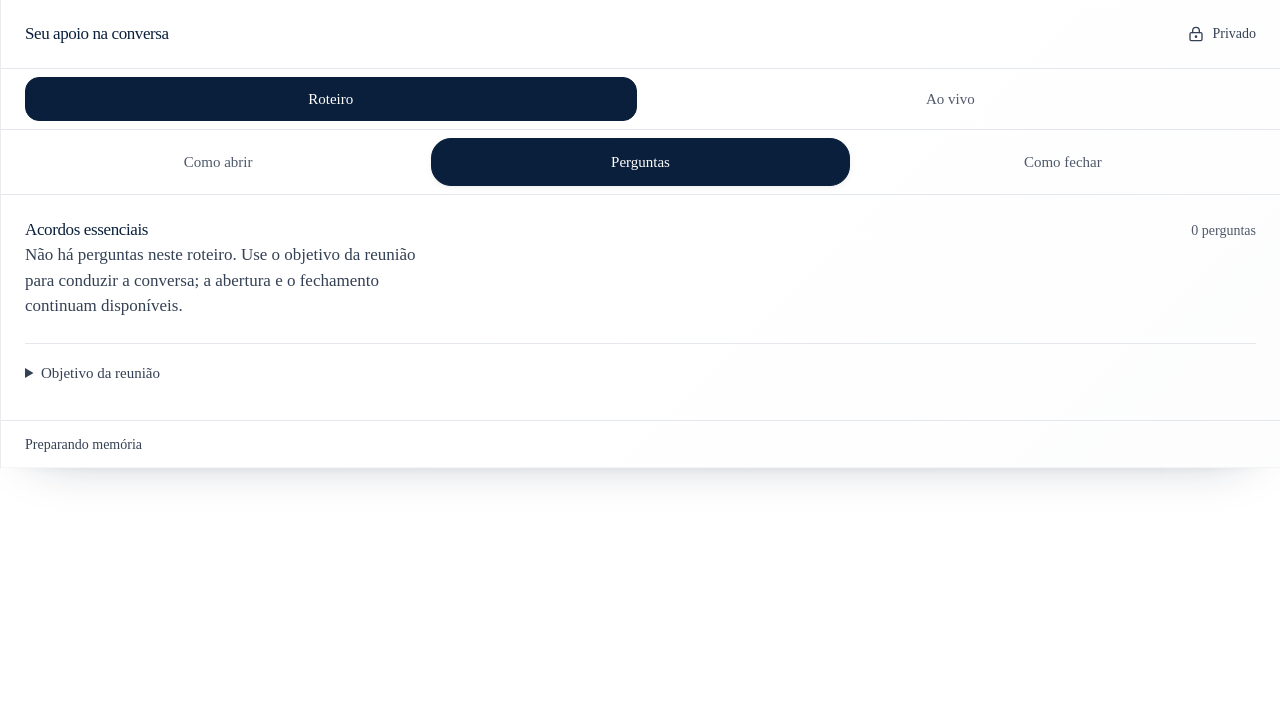
Test: consulta privada do roteiro › mantém abertura e fechamento do kickoff com as perguntas vazias
Expected: the text "Não há perguntas neste roteiro" is shown, left=25, top=245, right=416, bottom=315
Click the button "Como abrir" at (218, 162), box left=9, top=138, right=427, bottom=186
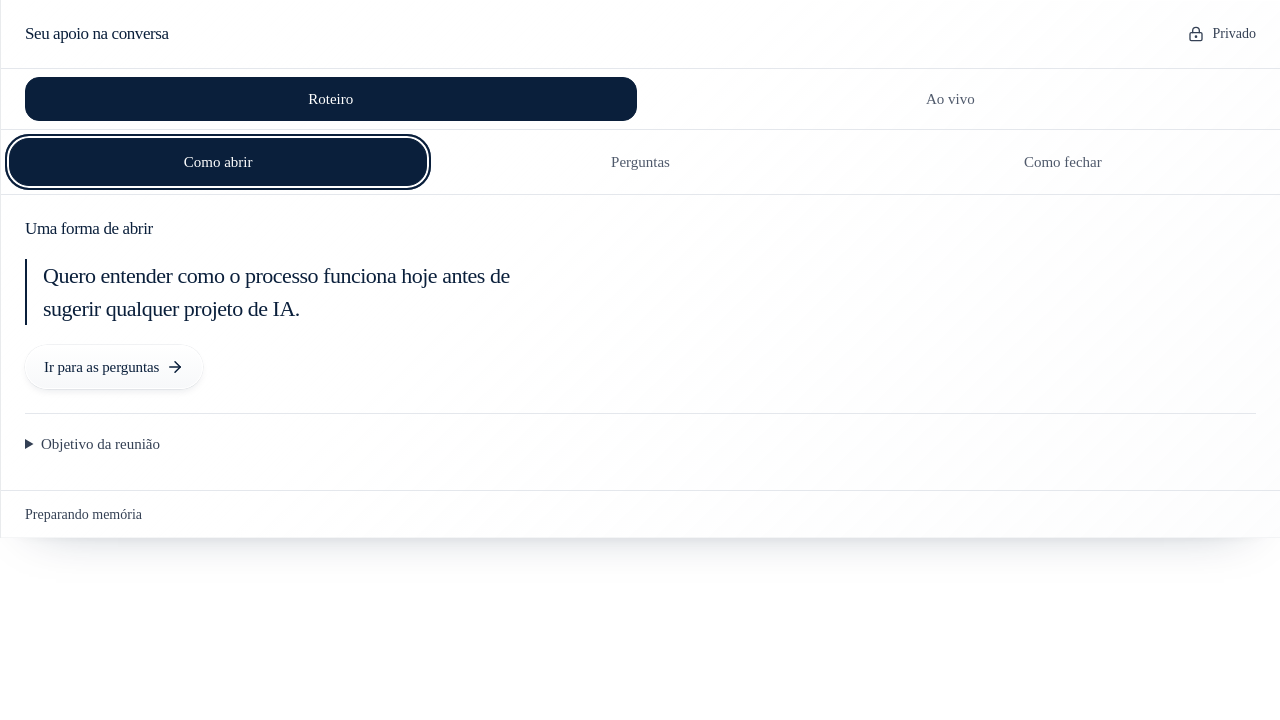
Now the text "Quero entender como o processo funciona hoje antes de sugerir qualquer projeto de IA." is shown, box left=43, top=263, right=510, bottom=321
Click the button "Como fechar" at (1063, 162), box left=854, top=138, right=1272, bottom=186
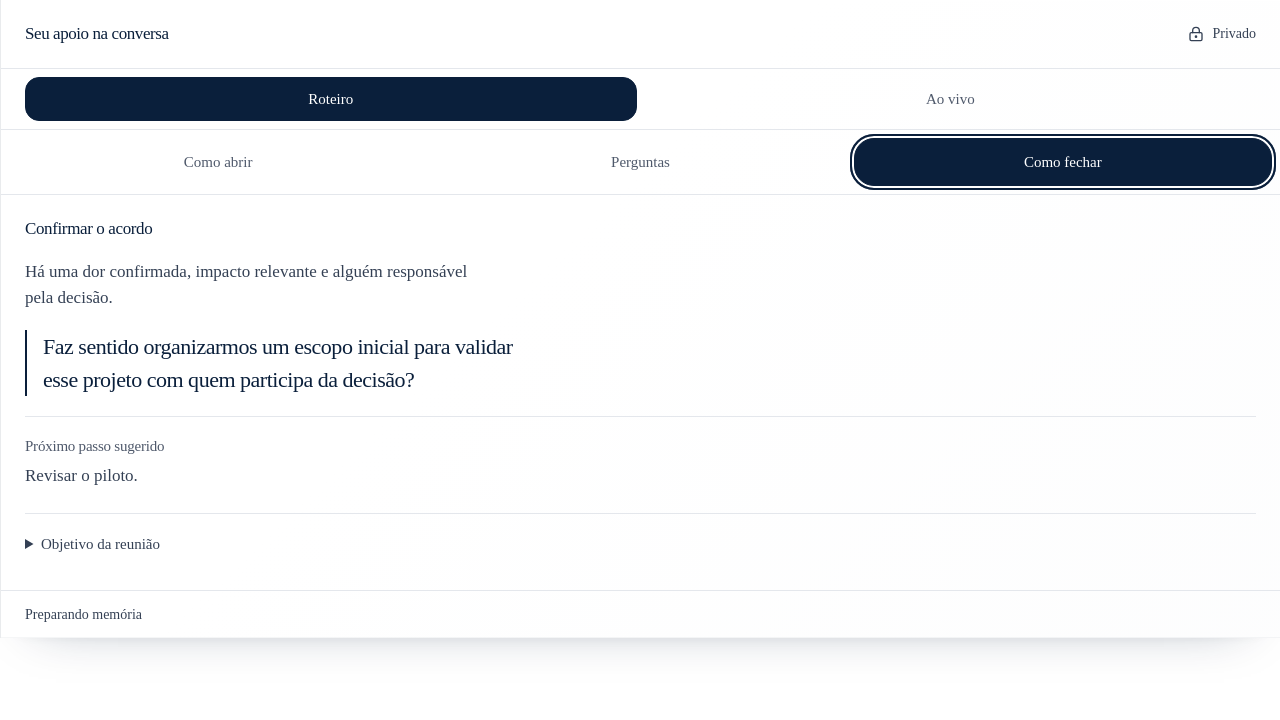
Now the heading "Confirmar o acordo" is shown, box left=25, top=219, right=152, bottom=239
Now the text "Revisar o piloto." is shown, box left=25, top=466, right=138, bottom=485
